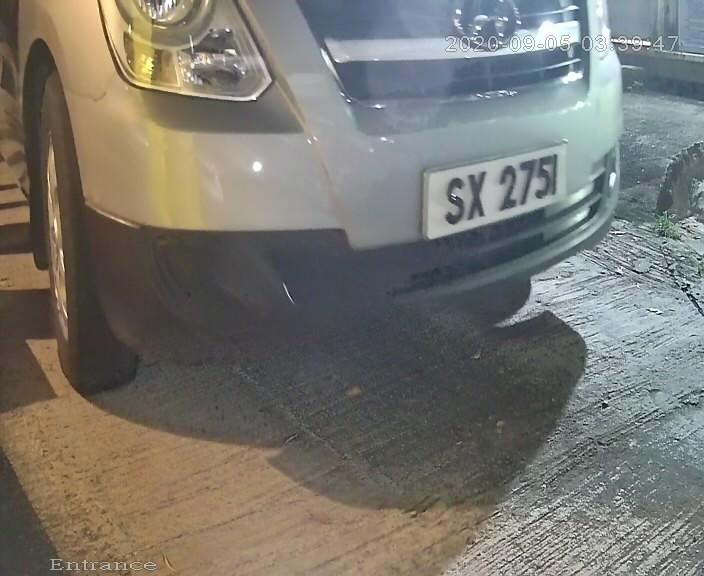License Plate: (412, 132, 576, 245)
